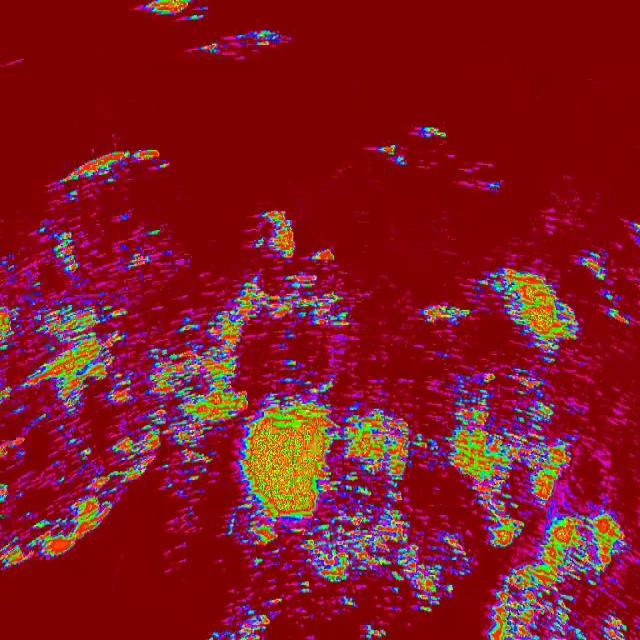fire: (228, 274, 443, 640), (444, 251, 640, 640), (0, 137, 166, 486), (166, 308, 229, 538), (0, 484, 121, 567), (199, 30, 294, 56), (254, 207, 298, 262), (379, 136, 409, 172), (142, 0, 195, 20), (308, 245, 342, 271), (414, 123, 446, 149), (620, 218, 640, 252)
